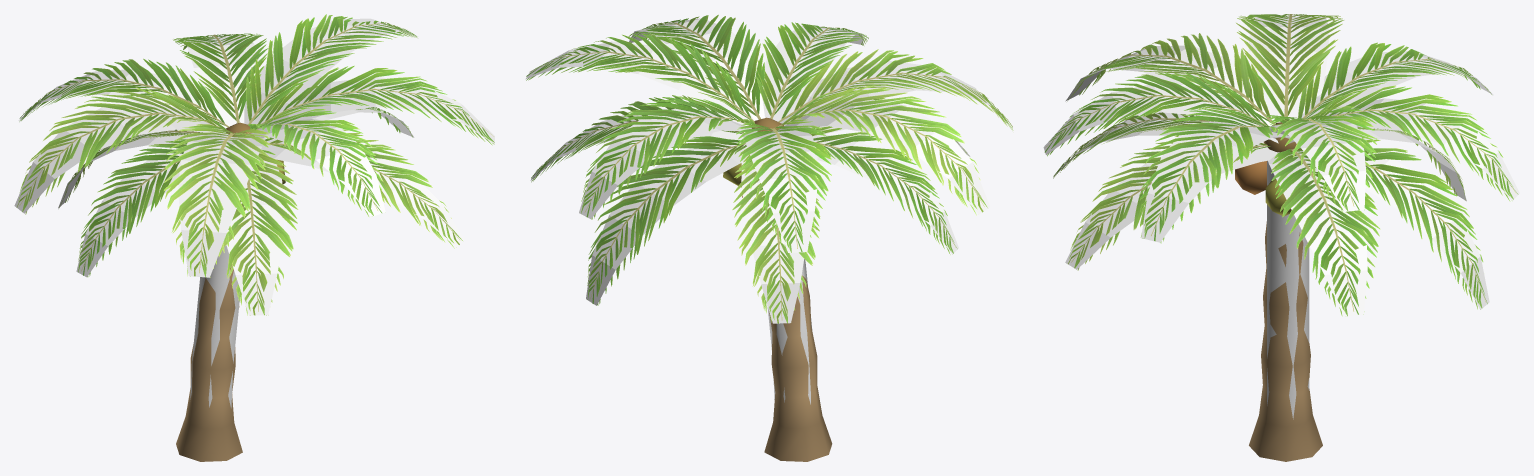
File: tree-palm-short.glb
3 views of the same model, side by side, from view 1: azimuth 30°, elevation 25°; view 2: azimuth 150°, elevation 25°; view 3: azimuth 270°, elevation 25° (orthographic). The views are drawn at different scales.
Visible parts, largest first — view 1: Fronds, Hull, Trunk, Stem; view 2: Fronds, Hull, Trunk, Stem; view 3: Fronds, Hull, Trunk, Stem.
Part boxes in pixels (left/top/right/bottom): Fronds: left=16, top=14, right=494, bottom=315; Hull: left=14, top=18, right=494, bottom=315; Trunk: left=176, top=122, right=285, bottom=461; Stem: left=190, top=245, right=239, bottom=408; Fronds: left=526, top=14, right=1013, bottom=323; Hull: left=525, top=18, right=1012, bottom=323; Trunk: left=723, top=117, right=832, bottom=461; Stem: left=767, top=259, right=812, bottom=404; Fronds: left=1044, top=14, right=1518, bottom=316; Hull: left=1043, top=16, right=1519, bottom=316; Trunk: left=1235, top=122, right=1322, bottom=461; Stem: left=1267, top=161, right=1309, bottom=419.
Bounding box in the file's own units: 4.03 × 3.34 × 3.65.
Materials: 4 (1 with a texture image).
